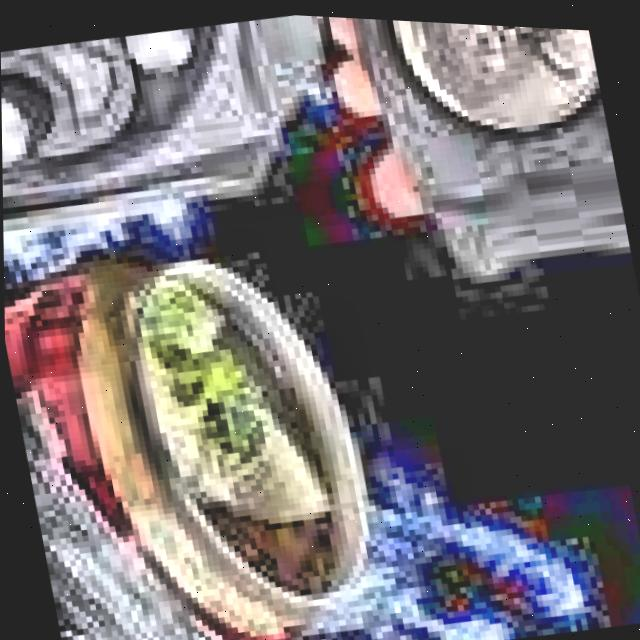metal: (2, 198, 439, 640)
